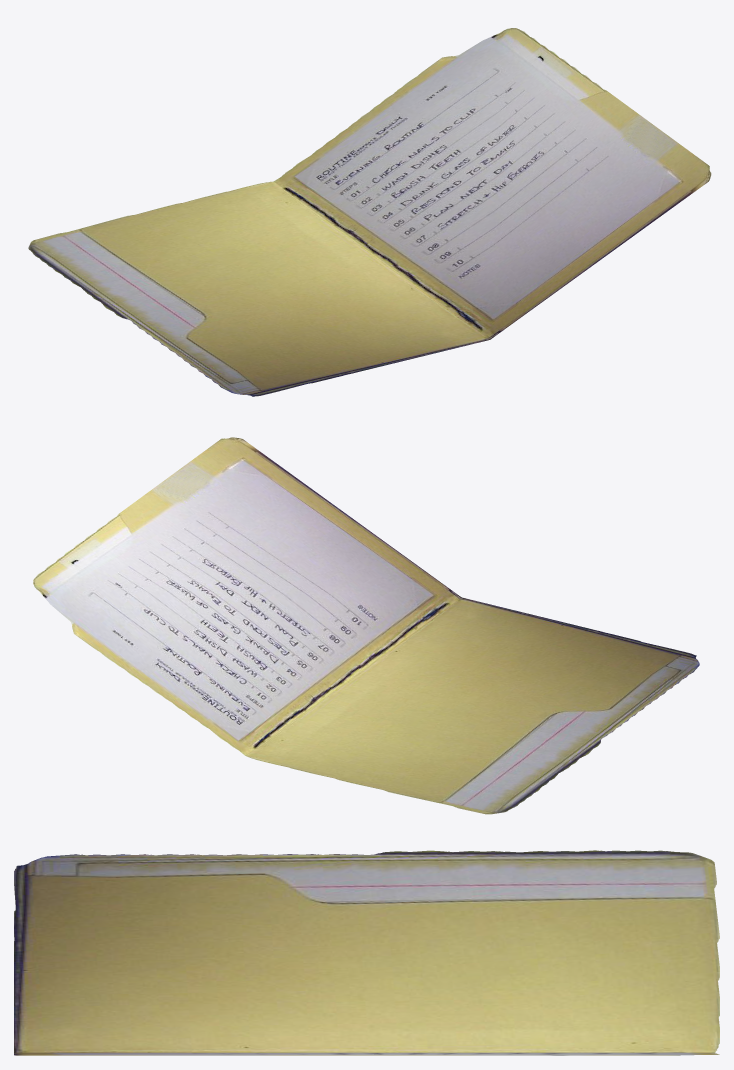
File: ConfirmList.fbx
The picture shows the model from 3 angles, top to bottom: view 1: azimuth 30°, elevation 25°; view 2: azimuth 150°, elevation 25°; view 3: azimuth 270°, elevation 25°; orthographic projection. The views are drawn at different scales.
Visible parts, largest first — view 1: ConfirmList; view 2: ConfirmList; view 3: ConfirmList.
Boxes of the visible parts, x1,y1,x2,y2 form: ConfirmList: [28, 28, 711, 396]; ConfirmList: [33, 437, 699, 814]; ConfirmList: [14, 850, 719, 1055].
Size of the model in its own units: 0.8886 by 0.1919 by 0.6869.
